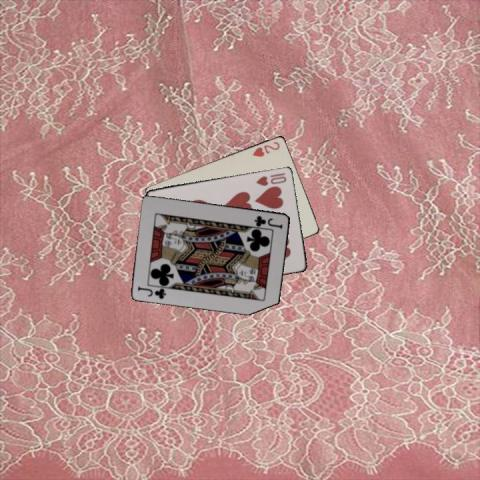10h: (253, 170, 288, 188)
2h: (250, 138, 281, 158)
Jc: (135, 283, 168, 300), (251, 213, 284, 229)
